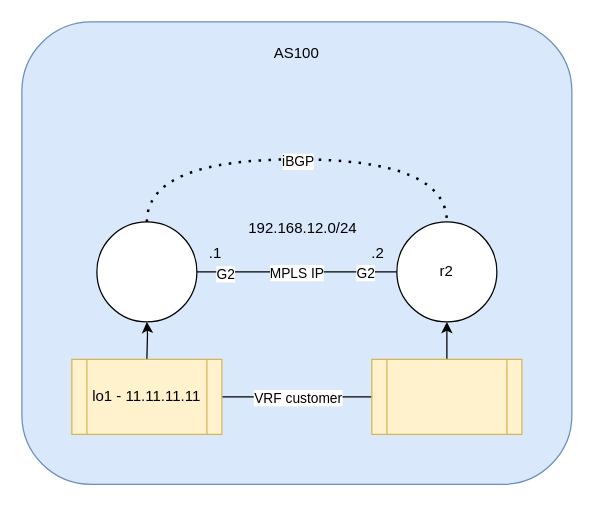
The diagram is 594 pixels wide and 506 high, and some of its shapes have lost their labels. Here are the shapes that lost their labels. From the top down, the centre of each, then its label:
[146,271]: r1
[446,396]: lo1 - 22.22.22.22
